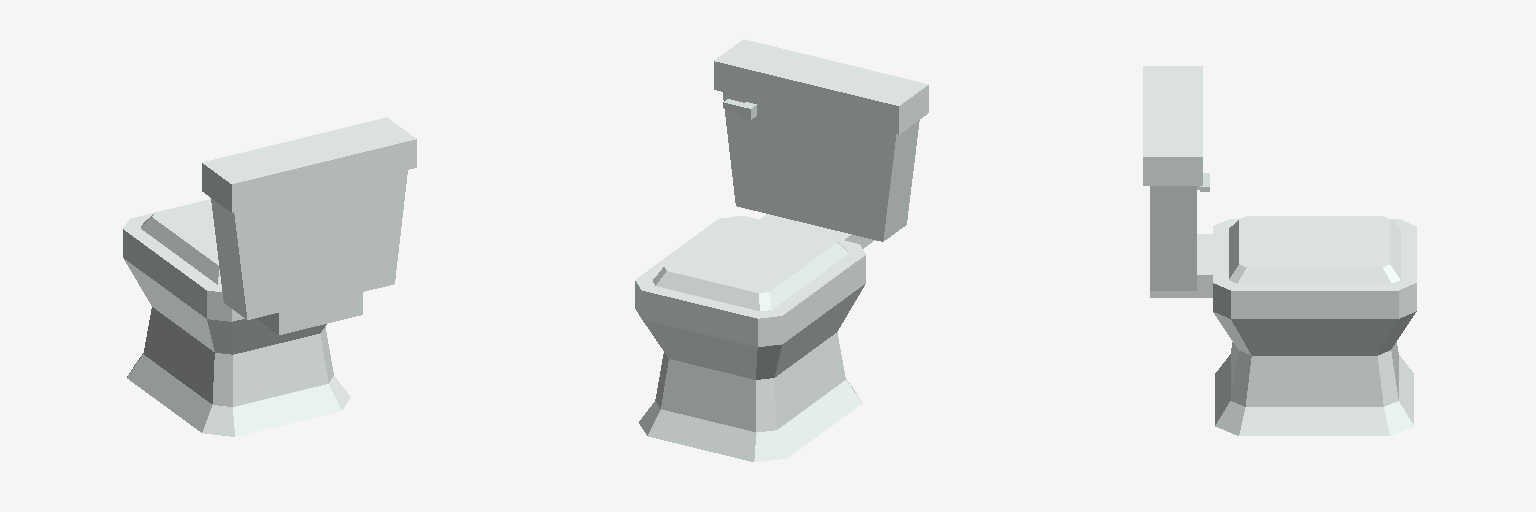
File: toiletSquare.obj
The picture shows the model from 3 angles: view 1: azimuth 30°, elevation 25°; view 2: azimuth 150°, elevation 25°; view 3: azimuth 270°, elevation 25°; orthographic projection.
Visible parts, largest first — view 1: toiletSquare, Group; view 2: toiletSquare, Group; view 3: toiletSquare, Group.
Boxes of the visible parts, <box> form: toiletSquare: <box>123,117,416,436</box>; Group: <box>141,199,221,284</box>; toiletSquare: <box>635,39,928,461</box>; Group: <box>653,216,848,310</box>; toiletSquare: <box>1143,66,1416,435</box>; Group: <box>1229,216,1400,283</box>.
Bounding box in the file's own units: 0.3036 × 0.451 × 0.3872.